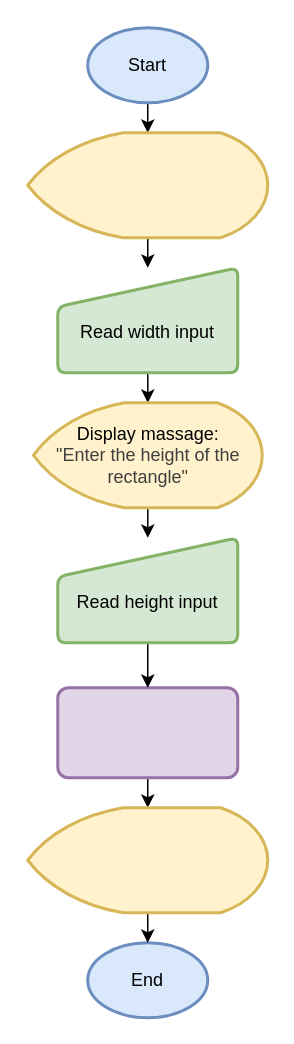
The diagram is 294 pixels wide and 1044 high, and some of its shapes have lost their labels. Here are the shapes that lost their labels. From the top down, the box of each, then its label:
(26, 130, 268, 238): Display massage: "Enter the width of the rectangle"
(56, 686, 238, 778): Calculate area: area = width * height
(26, 806, 268, 914): Display massage: "The area of the rectangle is", area
